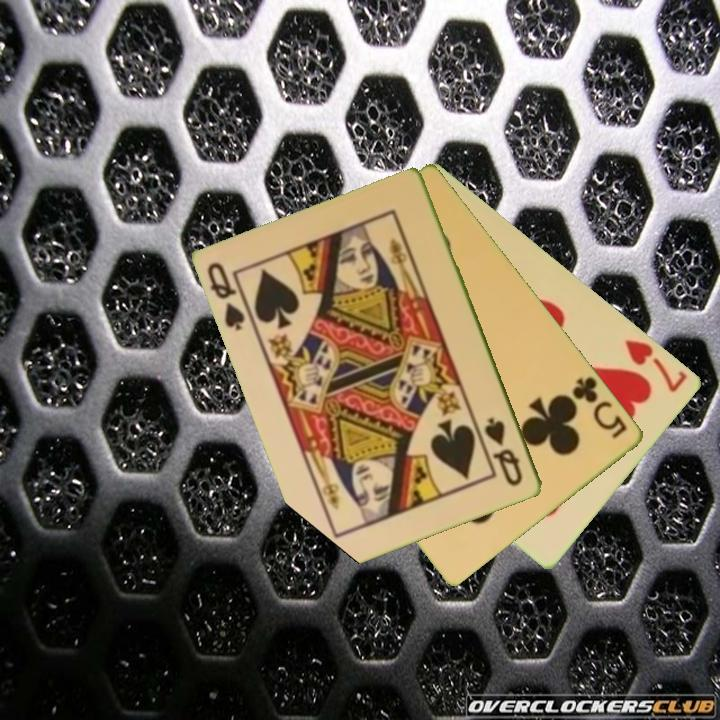5c: (569, 372, 631, 442)
7h: (622, 335, 691, 396)
Qs: (204, 259, 257, 334), (481, 414, 526, 490)
